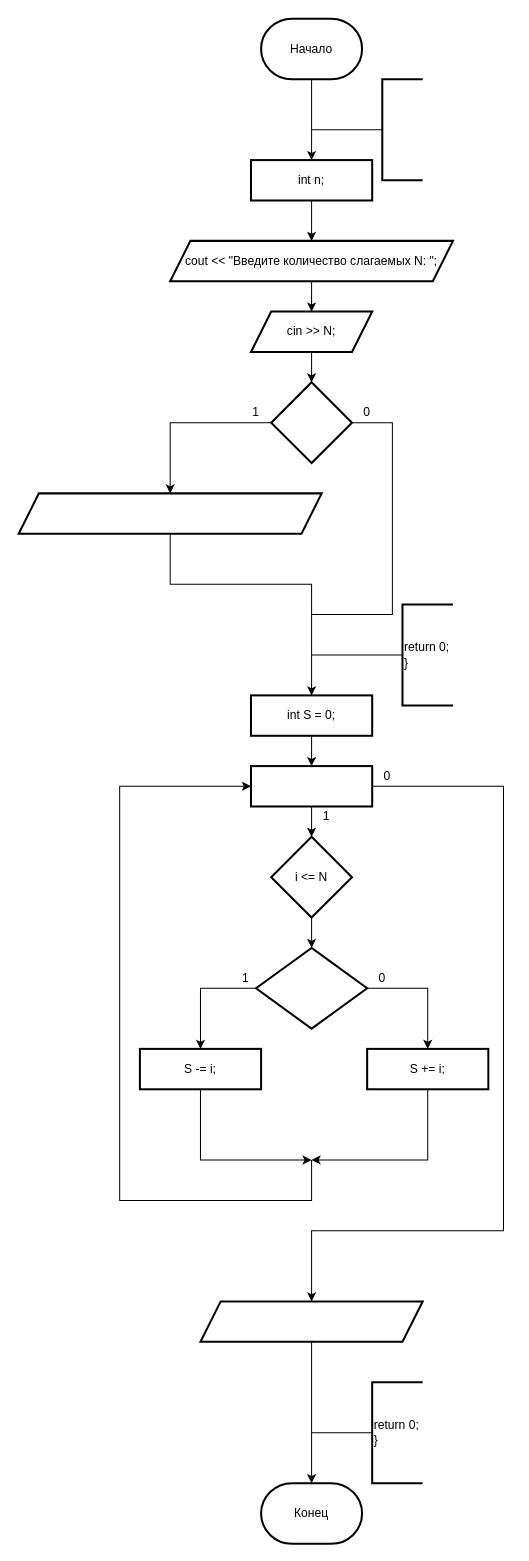
Image size: 529x1561. Some labels were removed from this diagram. Here are the shapes that lost their labels. From the top down, the box of each, then its label:
(381, 78, 423, 181): #include <iostream> using namespace std; int main(){
(270, 381, 352, 464): if (N <= 0)
(17, 492, 322, 534): cout << "N должно быть натуральным" << endl;
(249, 765, 373, 807): int i = 1;
(255, 946, 368, 1029): if (i % 3 == 0)
(199, 1300, 423, 1342): cout << "Сумма S = " << S << endl;
